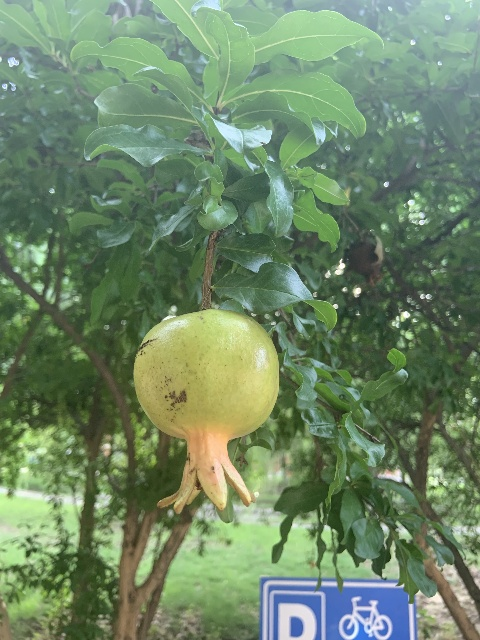mid-growth: (132, 307, 280, 514)
